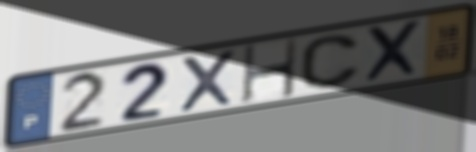2: (114, 57, 176, 128), (56, 68, 109, 135)
C: (298, 33, 363, 92)
H: (240, 36, 300, 107)
X: (362, 17, 425, 86), (177, 47, 239, 115)
